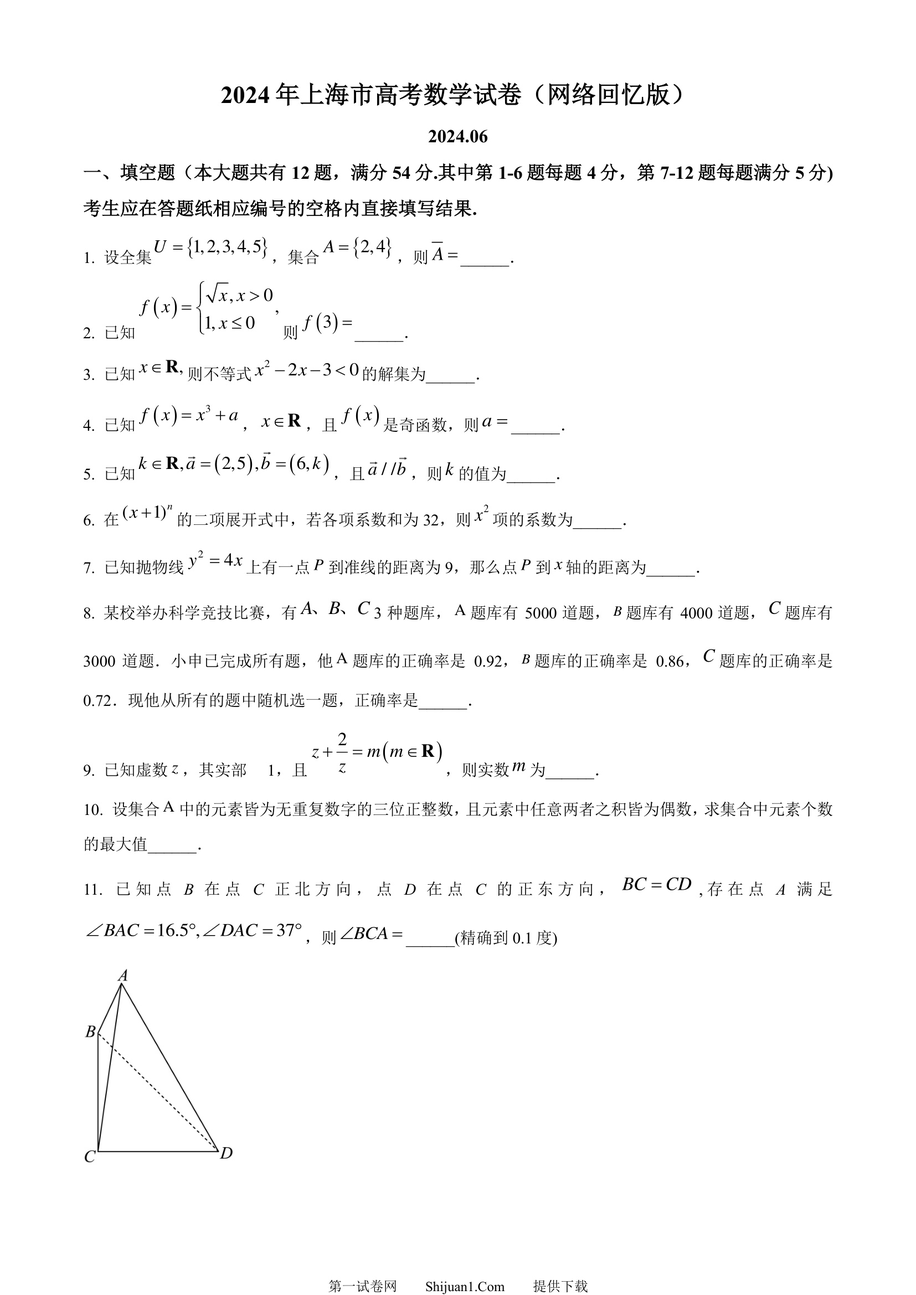question: (66, 863, 853, 1181), (63, 591, 846, 721), (63, 793, 850, 863), (66, 719, 643, 791), (63, 543, 716, 591), (66, 437, 586, 495), (66, 280, 434, 355), (66, 394, 600, 442), (63, 497, 651, 540), (68, 227, 535, 278), (68, 353, 492, 394)
